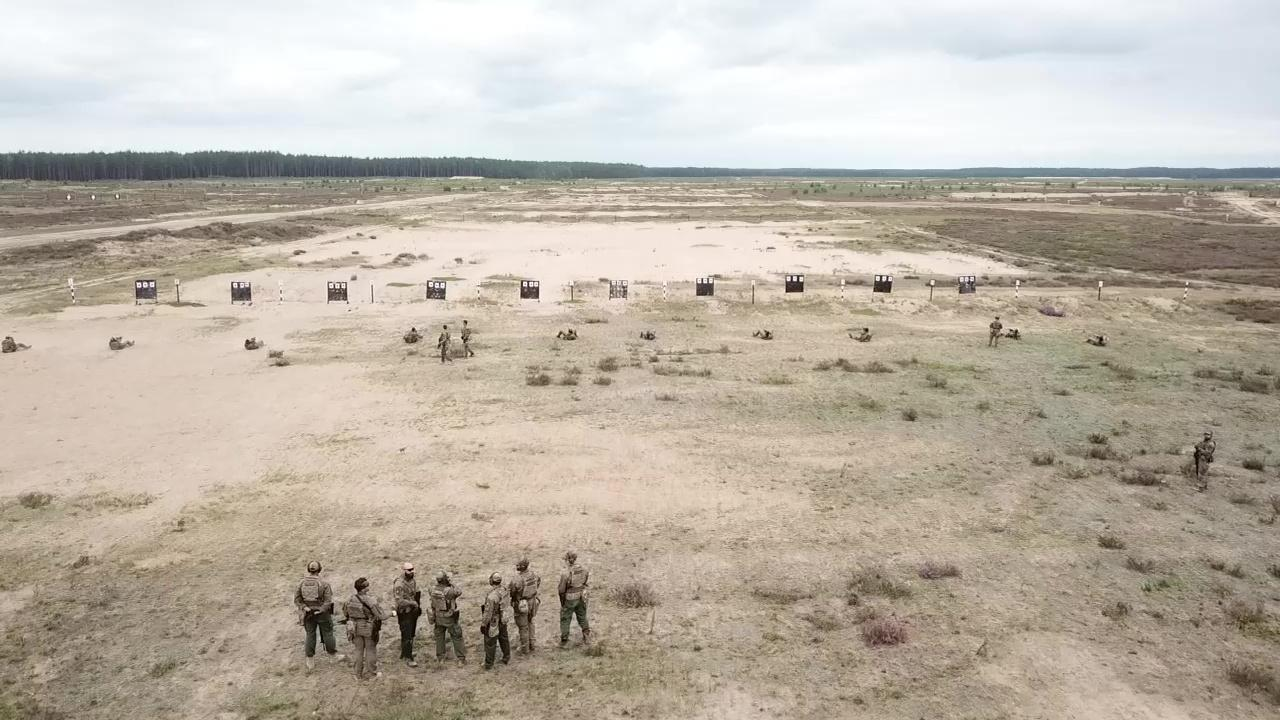Soldier: (339, 574, 390, 686), (291, 559, 340, 671), (427, 567, 470, 675), (553, 546, 594, 655), (477, 568, 514, 677), (391, 561, 427, 671), (508, 553, 540, 659), (1191, 428, 1218, 493), (458, 315, 476, 359), (437, 320, 453, 368), (986, 314, 1005, 347)
